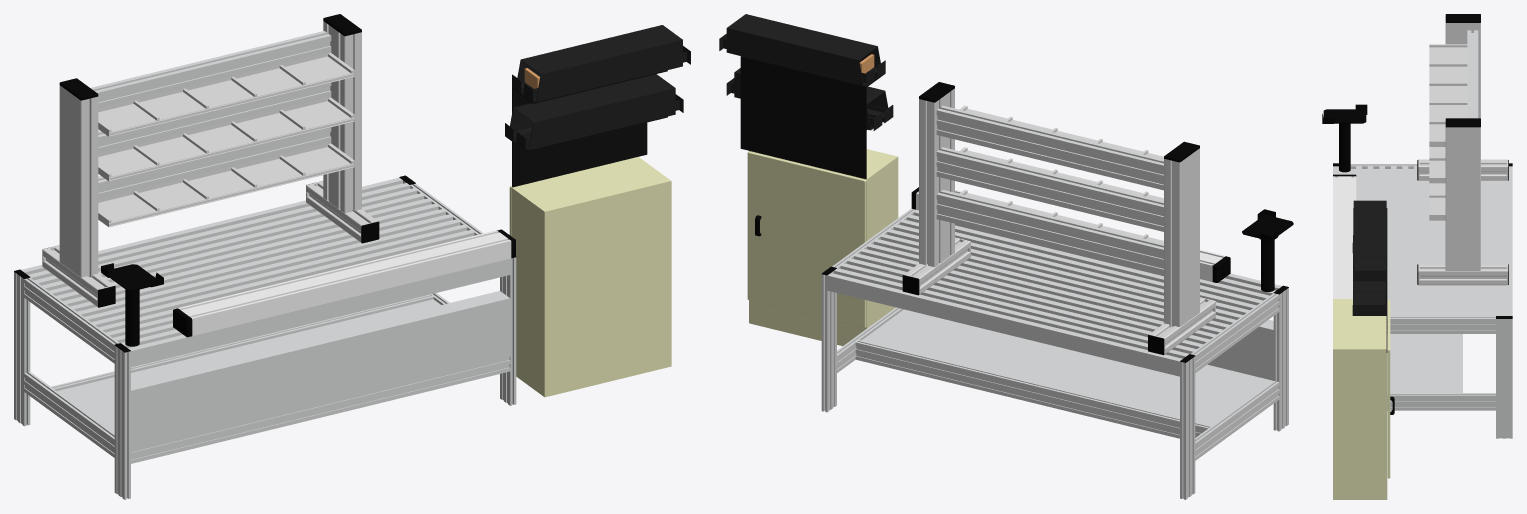
File: Mesa Estacion 1.fbx
3 renders of one model, left to right at view 1: azimuth 30°, elevation 25°; view 2: azimuth 150°, elevation 25°; view 3: azimuth 270°, elevation 25°, orthographic. The views are drawn at different scales.
Parts seen in each view (by area): view 1: MesaEstacion1, Almacen, Almacen Matricial, Riel, Base Negra; view 2: MesaEstacion1, Almacen, Almacen Matricial, Base Negra, Riel; view 3: MesaEstacion1, Almacen, Almacen Matricial, Riel, Base Negra.
Part boxes in pixels (left/top/right/bottom): MesaEstacion1: left=14, top=175, right=516, bottom=499; Almacen: left=505, top=25, right=690, bottom=397; Almacen Matricial: left=42, top=14, right=379, bottom=307; Riel: left=173, top=229, right=515, bottom=337; Base Negra: left=101, top=263, right=163, bottom=346; MesaEstacion1: left=821, top=208, right=1288, bottom=499; Almacen: left=719, top=14, right=898, bottom=346; Almacen Matricial: left=902, top=82, right=1215, bottom=355; Base Negra: left=1242, top=209, right=1293, bottom=291; Riel: left=911, top=187, right=1230, bottom=282; MesaEstacion1: left=1333, top=163, right=1512, bottom=438; Almacen: left=1333, top=200, right=1394, bottom=499; Almacen Matricial: left=1417, top=14, right=1508, bottom=285; Riel: left=1333, top=174, right=1356, bottom=298; Base Negra: left=1322, top=104, right=1367, bottom=172.
Bounding box in the file's own units: 229 × 130 × 80.13.
